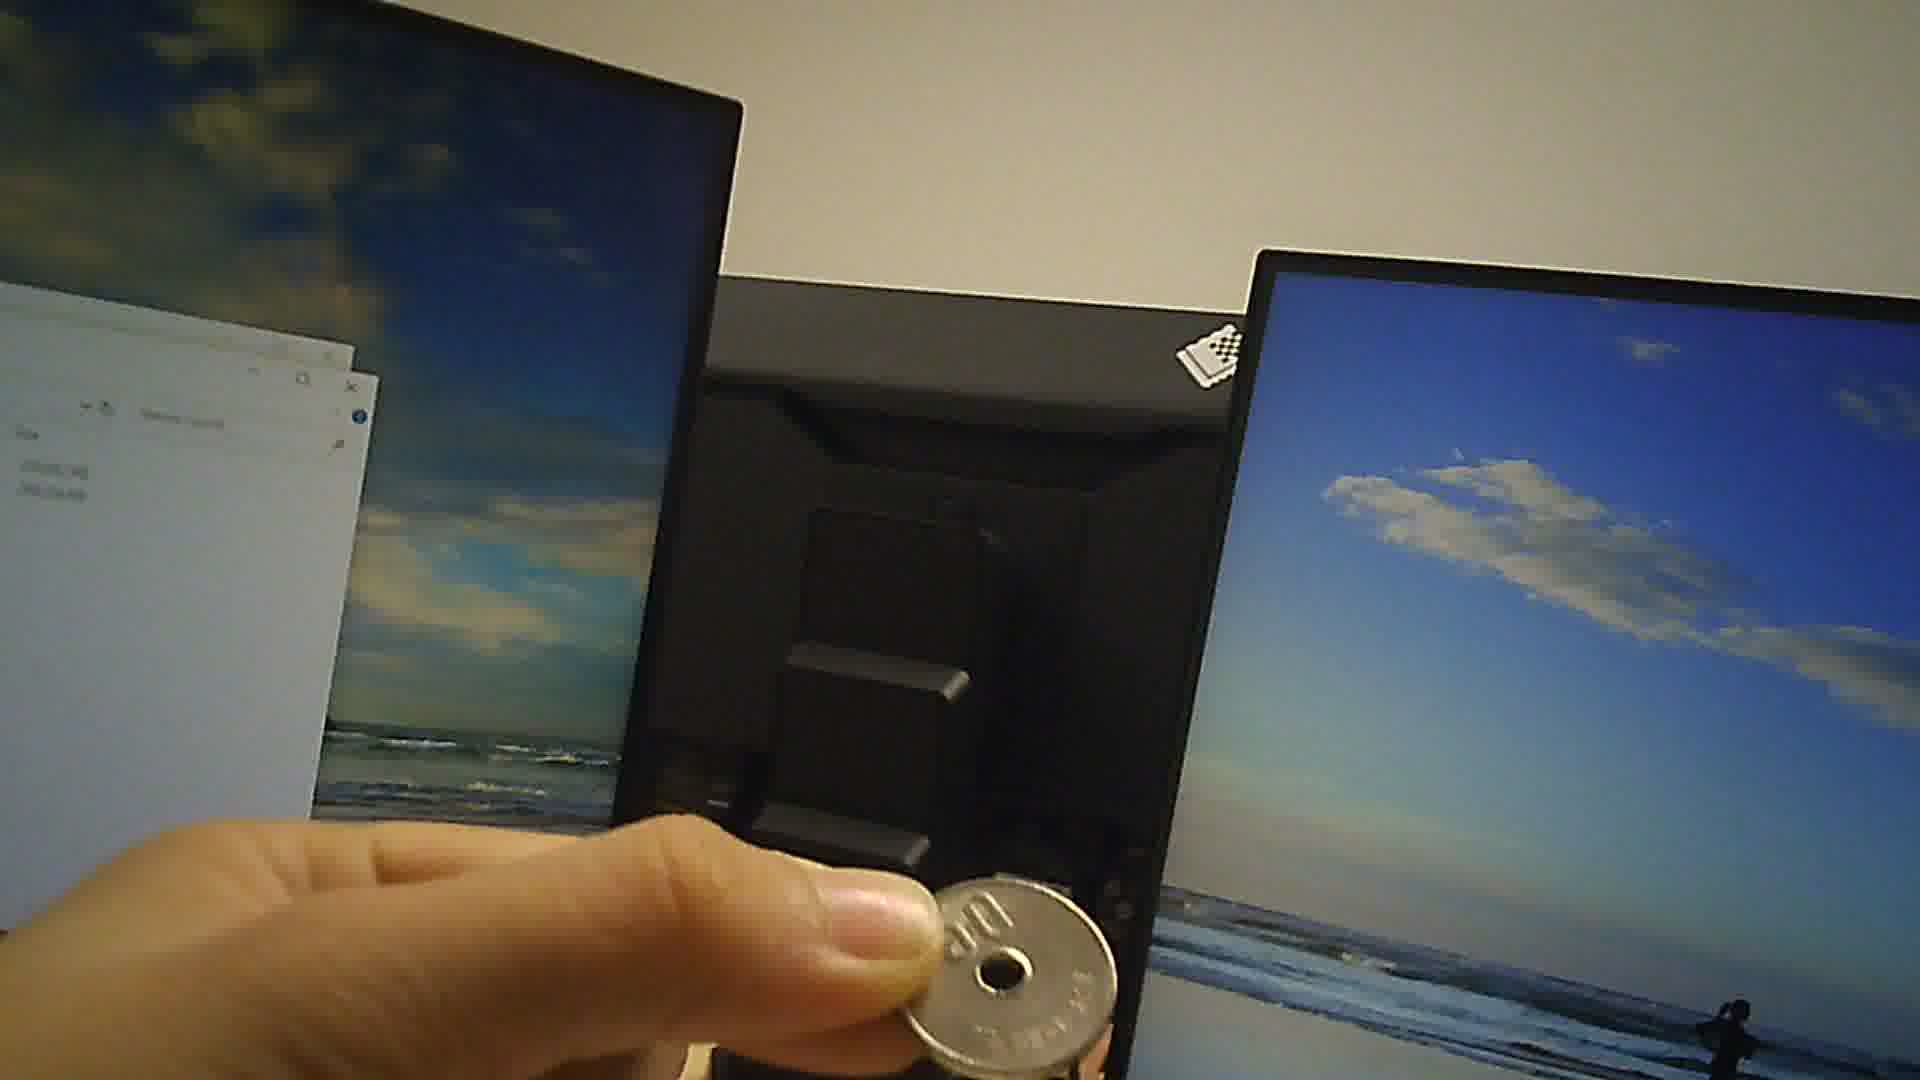50 Yen: (898, 865, 1127, 1071)
